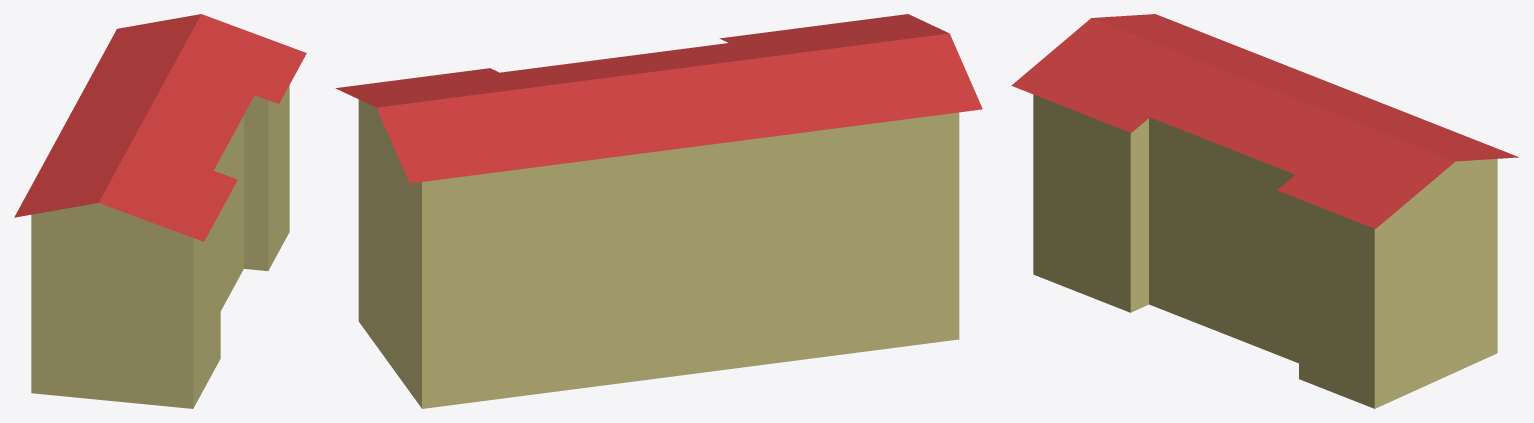
The picture shows the model from 3 angles, left to right: view 1: azimuth 30°, elevation 25°; view 2: azimuth 150°, elevation 25°; view 3: azimuth 270°, elevation 25°; orthographic projection. The views are drawn at different scales.
Size of the model in its own units: 15.83 by 16.29 by 7.79.
